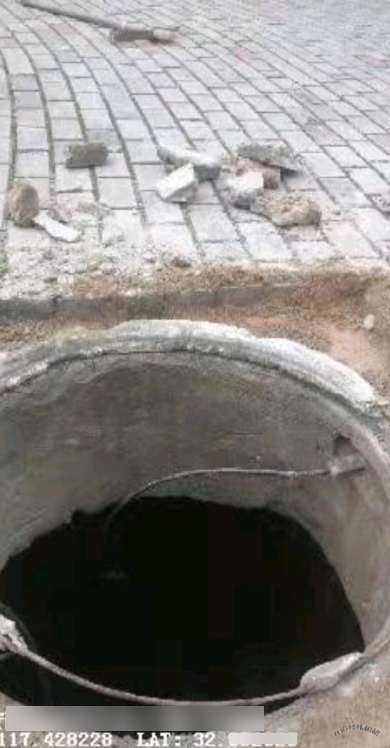lose: (1, 330, 390, 720)
